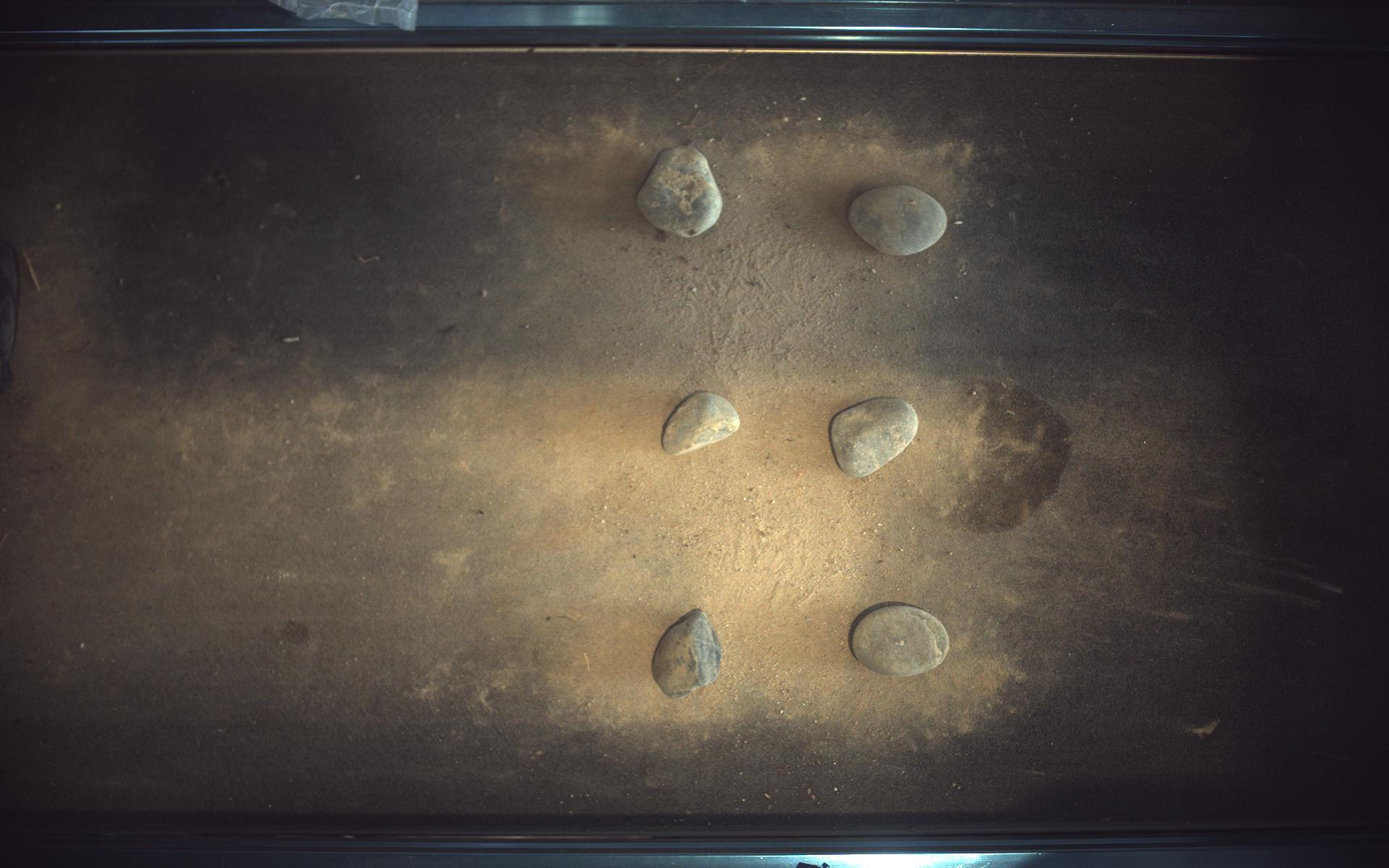stone: (637, 145, 723, 237), (831, 397, 920, 478), (854, 605, 951, 677), (851, 184, 949, 255), (653, 609, 723, 699), (663, 392, 742, 456)
